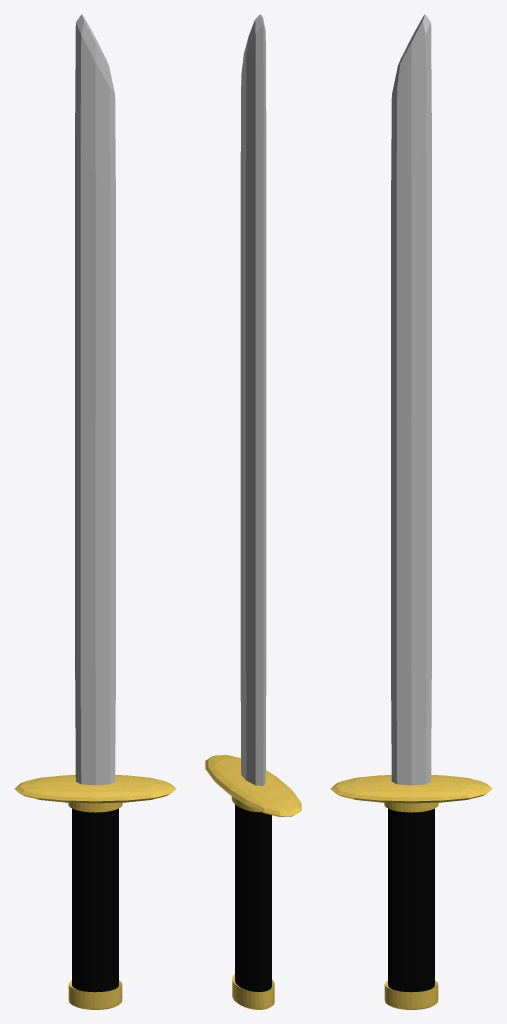
Rendered from katana.fbx.
The picture shows the model from 3 angles, left to right: view 1: azimuth 90°, elevation 25°; view 2: azimuth 210°, elevation 25°; view 3: azimuth 270°, elevation 25°; orthographic projection.
Visible parts, largest first — view 1: Blade, Hilt, Guard; view 2: Blade, Hilt, Guard; view 3: Blade, Hilt, Guard.
Boxes of the visible parts, x1,y1,x2,y2 form: Blade: (75,14,115,785); Hilt: (68,802,122,1009); Guard: (14,775,176,803); Blade: (240,14,266,785); Hilt: (231,796,274,1009); Guard: (205,755,301,816); Blade: (391,14,431,785); Hilt: (384,802,438,1009); Guard: (330,775,492,803).
Size of the model in its own units: 10.28 by 190 by 28.29.
